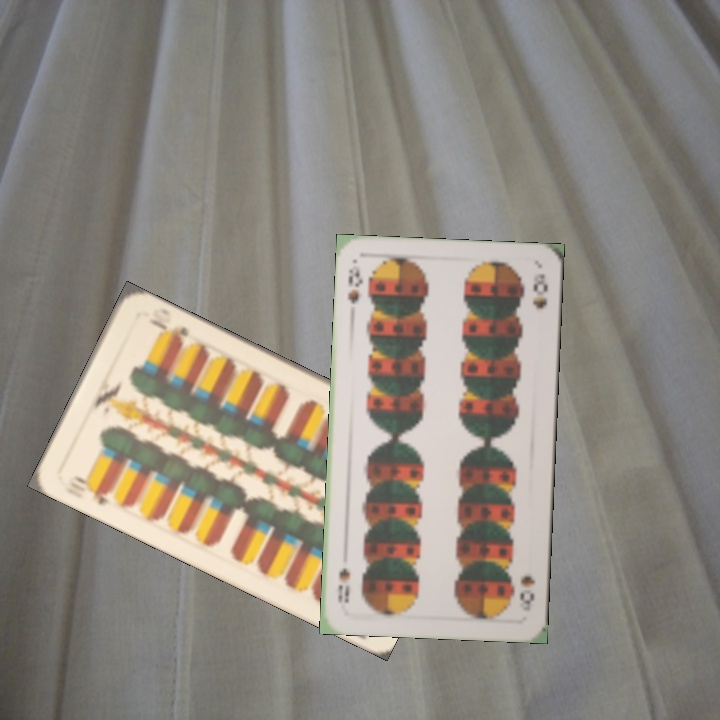E10: (69, 471, 115, 508)
S8: (344, 261, 365, 307), (516, 571, 537, 607)
